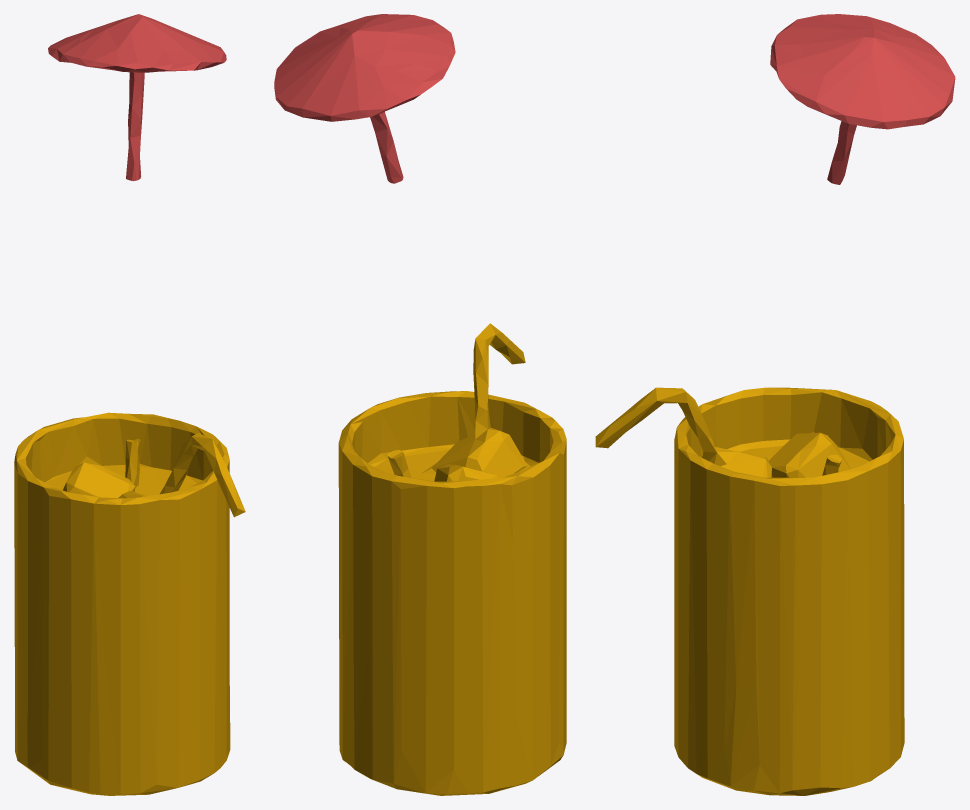
File: fractured_6_2pcs_transformed.glb
3 views of the same model, side by side, from view 1: azimuth 30°, elevation 25°; view 2: azimuth 150°, elevation 25°; view 3: azimuth 270°, elevation 25° (orthographic). The views are drawn at different scales.
Parts seen in each view (by area): view 1: piece_0.obj, piece_1.obj; view 2: piece_0.obj, piece_1.obj; view 3: piece_0.obj, piece_1.obj.
Part boxes in pixels (<box>): piece_0.obj: <box>14,412,245,795</box>; piece_1.obj: <box>48,14,226,181</box>; piece_0.obj: <box>338,323,566,795</box>; piece_1.obj: <box>274,14,455,183</box>; piece_0.obj: <box>595,387,904,795</box>; piece_1.obj: <box>770,14,955,184</box>.
Bounding box in the file's own units: 0.5255 × 1.6 × 0.7037.
